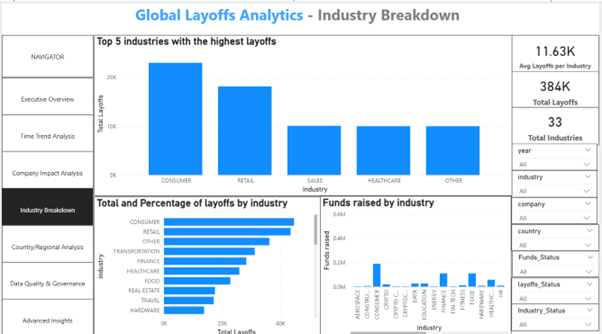

What the dashboard file says about the page in this screenshot:
{"tool":"powerbi","page":{"name":"Industry Breakdown","canvas":[1280,720],"ordinal":3},"visuals":[{"type":"shape","box":[0,0,196.6,720.2],"z":0},{"type":"card","fields":{"Values":["layoffs_cleaned_dataset.Avg Layoffs per Industry"]},"box":[1091.8,71.2,187.5,83.7],"z":1000},{"type":"card","fields":{"Values":["Sum(layoffs_cleaned_dataset.total_laid_off)"]},"box":[1092.2,149.4,187.5,81.9],"z":2000},{"type":"card","fields":{"Values":["layoffs_cleaned_dataset.Total Industries"]},"box":[1092.2,225.9,187.5,81.9],"z":3000},{"type":"slicer","fields":{"Values":["layoffs_cleaned_dataset.year"]},"box":[1092.3,303.7,183.8,56.4],"z":4000},{"type":"slicer","fields":{"Values":["layoffs_cleaned_dataset.industry"]},"box":[1092.3,360.2,183.8,58.2],"z":5000},{"type":"slicer","fields":{"Values":["layoffs_cleaned_dataset.layoffs_Status"]},"box":[1092.2,590.8,187.5,56.4],"z":6000},{"type":"textbox","box":[448.1,0,509.8,70.5],"z":7000},{"type":"slicer","fields":{"Values":["layoffs_cleaned_dataset.company"]},"box":[1092.3,418.4,183.8,56.4],"z":8000},{"type":"textbox","box":[0,333.6,196.6,54.3],"z":9000},{"type":"textbox","box":[2.4,461.2,236.5,42.2],"z":10000},{"type":"textbox","box":[2.4,208.4,231.6,51.9],"z":11000},{"type":"textbox","box":[0,90.5,236.5,44.6],"z":12000},{"type":"textbox","box":[0,576.7,179.8,42.2],"z":13000},{"type":"slicer","fields":{"Values":["layoffs_cleaned_dataset.country"]},"box":[1092.3,476.7,187.5,56.4],"z":14000},{"type":"clusteredColumnChart","title":"Total Layoffs by Top 5 Industries","fields":{"Y":["layoffs_cleaned_dataset.Total Layoffs (Reported)"],"Category":["layoffs_cleaned_dataset.industry"]},"box":[197.4,70.6,895.4,345.1],"z":15000},{"type":"lineClusteredColumnComboChart","fields":{"Category":["layoffs_cleaned_dataset.industry"],"Y":["Sum(layoffs_cleaned_dataset.funds_raised_millions)"],"Series":["layoffs_cleaned_dataset.Funds_Status"]},"box":[681.7,415.8,409.9,304.1],"z":16000},{"type":"barChart","title":"Total and Percentage of layoffs by industr4y","fields":{"Y":["Sum(layoffs_cleaned_dataset.total_laid_off)"],"Category":["layoffs_cleaned_dataset.industry"],"Series":["layoffs_cleaned_dataset.Industry_Status"]},"box":[197.4,417,485,304.6],"z":17000},{"type":"slicer","fields":{"Values":["layoffs_cleaned_dataset.Industry_Status"]},"box":[1092.2,647.2,187.5,58.2],"z":18000},{"type":"slicer","fields":{"Values":["layoffs_cleaned_dataset.Funds_Status"]},"box":[1092.8,533.8,187.2,55.7],"z":19000}]}

Visuals, with their boxes on the page's 1280x720 design canvas (x1, y1, x2, y2). These are canvas units, not pixel positions in the 602x334 screenshot, which may show the page scaled, cropped or inside an application window:
shape: (0, 0, 197, 720)
card - layoffs_cleaned_dataset.Avg Layoffs per Industry: (1092, 71, 1279, 155)
card - Sum(layoffs_cleaned_dataset.total_laid_off): (1092, 149, 1280, 231)
card - layoffs_cleaned_dataset.Total Industries: (1092, 226, 1280, 308)
slicer - layoffs_cleaned_dataset.year: (1092, 304, 1276, 360)
slicer - layoffs_cleaned_dataset.industry: (1092, 360, 1276, 418)
slicer - layoffs_cleaned_dataset.layoffs_Status: (1092, 591, 1280, 647)
textbox: (448, 0, 958, 70)
slicer - layoffs_cleaned_dataset.company: (1092, 418, 1276, 475)
textbox: (0, 334, 197, 388)
textbox: (2, 461, 239, 503)
textbox: (2, 208, 234, 260)
textbox: (0, 90, 236, 135)
textbox: (0, 577, 180, 619)
slicer - layoffs_cleaned_dataset.country: (1092, 477, 1280, 533)
"Total Layoffs by Top 5 Industries" clusteredColumnChart: (197, 71, 1093, 416)
lineClusteredColumnComboChart - layoffs_cleaned_dataset.industry x Sum(layoffs_cleaned_dataset.funds_raised_millions): (682, 416, 1092, 720)
"Total and Percentage of layoffs by industr4y" barChart: (197, 417, 682, 722)
slicer - layoffs_cleaned_dataset.Industry_Status: (1092, 647, 1280, 705)
slicer - layoffs_cleaned_dataset.Funds_Status: (1093, 534, 1280, 590)
